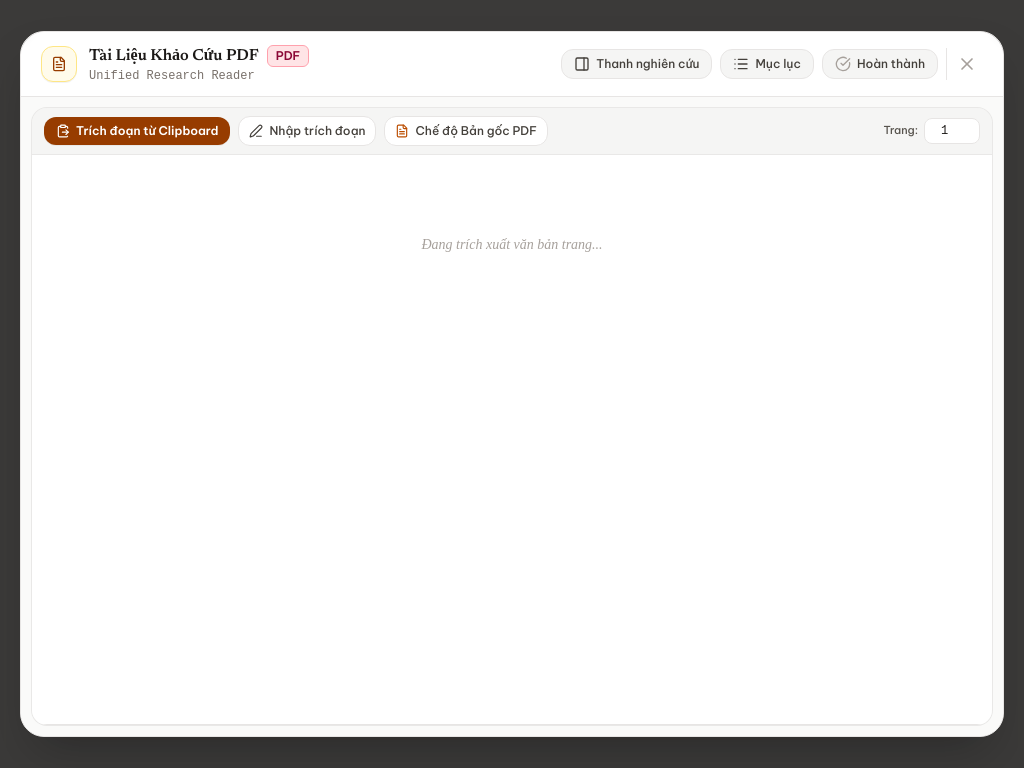
Scenario: PDF Reader TOC Hydration & Navigation (Red Stage) › 2. UnifiedResearchReader with format="pdf" and initialToc renders outline items in ReaderSidebar
This screenshot has width=1024, height=768.
# Open sidebar
Click the button with test id "reader-toggle-sidebar-btn" at (637, 64), box x1=561 y1=49 x2=712 y2=79
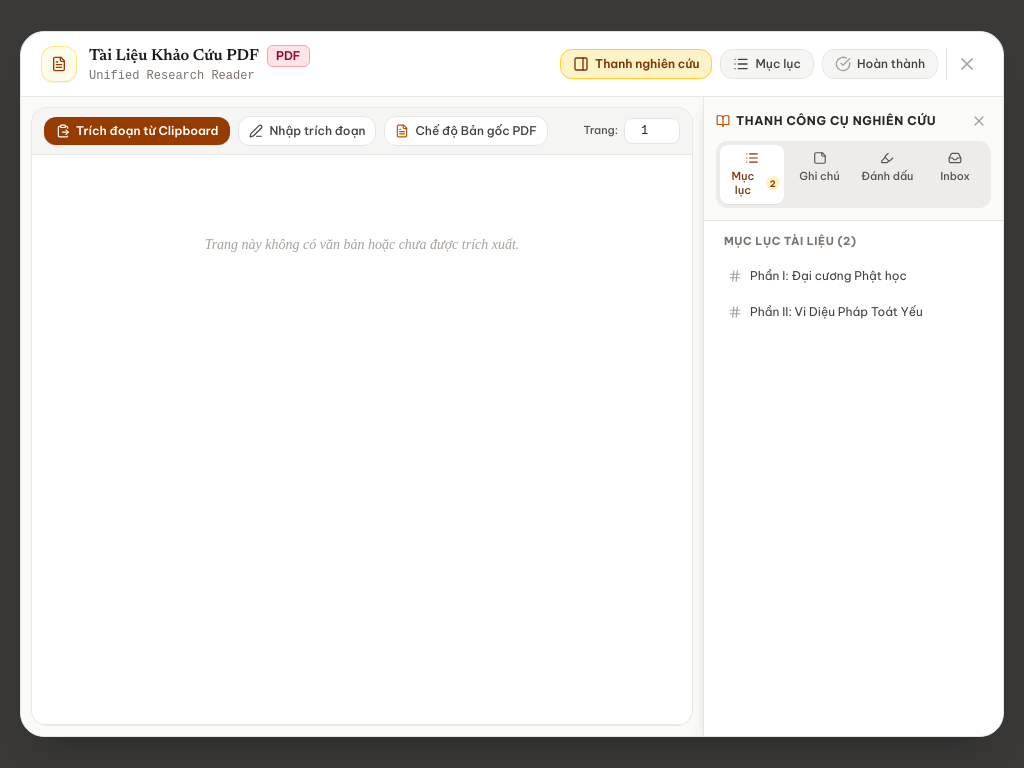
Check: the text "Phần I: Đại cương Phật học" is shown, box x1=750 y1=268 x2=907 y2=284
Check: the text "Phần II: Vi Diệu Pháp Toát Yếu" is shown, box x1=750 y1=304 x2=923 y2=320
